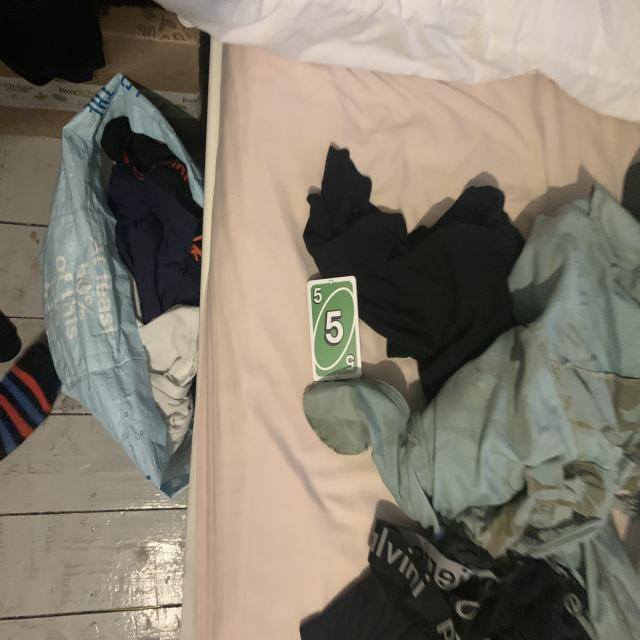lgreen-5: (311, 286, 325, 306)
